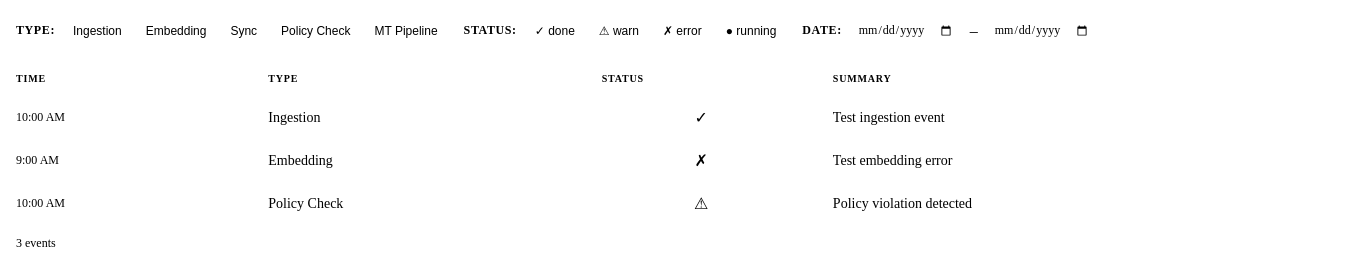
Test case: EventTable › clears all filters when clear button is clicked
Note: Apply a filter
Click the button "Ingestion" at (97, 30), box [63,18,132,44]
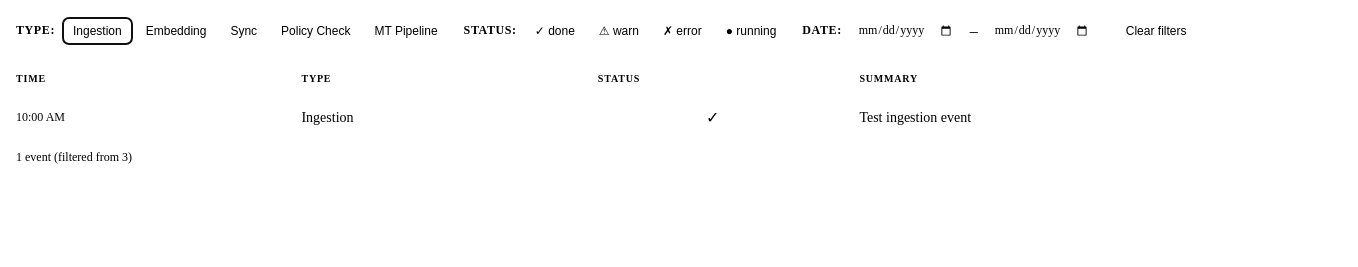
Note: Clear filters
Click the button "Clear filters" at (1156, 30), box [1114,16,1198,45]
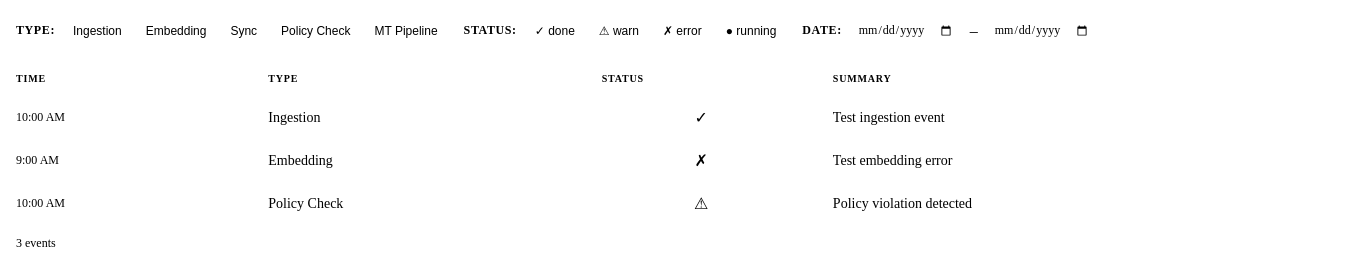
Now the text "Test embedding error" is shown, box [817,139,1350,182]
Now the text "Policy violation detected" is shown, box [817,182,1350,225]
Now the text "3 events" is shown, box [16,236,56,250]
